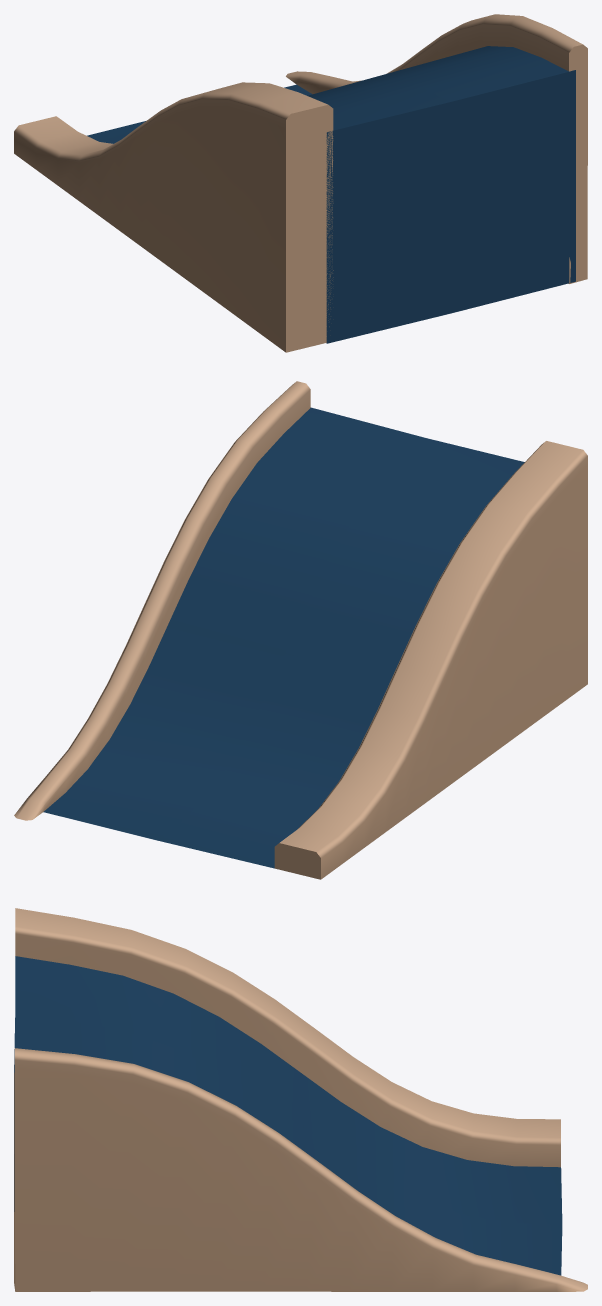
File: PokemonMonster_Landing_RoadStraight4.fbx
The picture shows the model from 3 angles, top to bottom: view 1: azimuth 30°, elevation 25°; view 2: azimuth 150°, elevation 25°; view 3: azimuth 270°, elevation 25°; orthographic projection. The views are drawn at different scales.
Visible parts, largest first — view 1: polySurface1, polySurface2, polySurface3; view 2: polySurface1, polySurface2, polySurface3; view 3: polySurface3, polySurface1, polySurface2.
Boxes of the visible parts, left/top/right/bottom form: polySurface1: left=87, top=46, right=575, bottom=343; polySurface2: left=14, top=82, right=333, bottom=352; polySurface3: left=286, top=14, right=587, bottom=283; polySurface1: left=43, top=407, right=524, bottom=868; polySurface2: left=274, top=441, right=587, bottom=879; polySurface3: left=14, top=381, right=310, bottom=820; polySurface3: left=14, top=1048, right=587, bottom=1291; polySurface1: left=14, top=956, right=562, bottom=1275; polySurface2: left=15, top=908, right=560, bottom=1167.
Size of the model in its own units: 321 by 242 by 526.
Materials: 1 (1 with a texture image).
